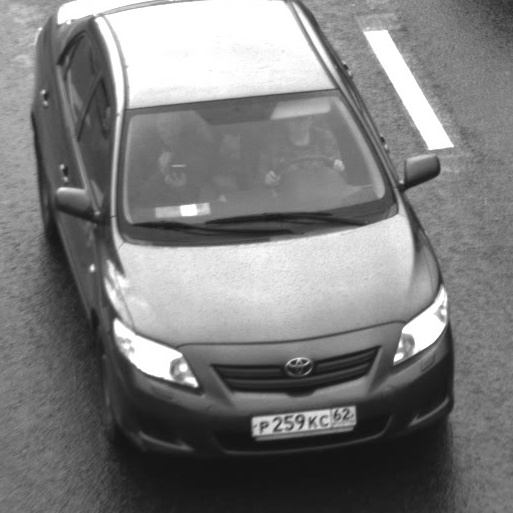plate: (238, 392, 363, 443)
